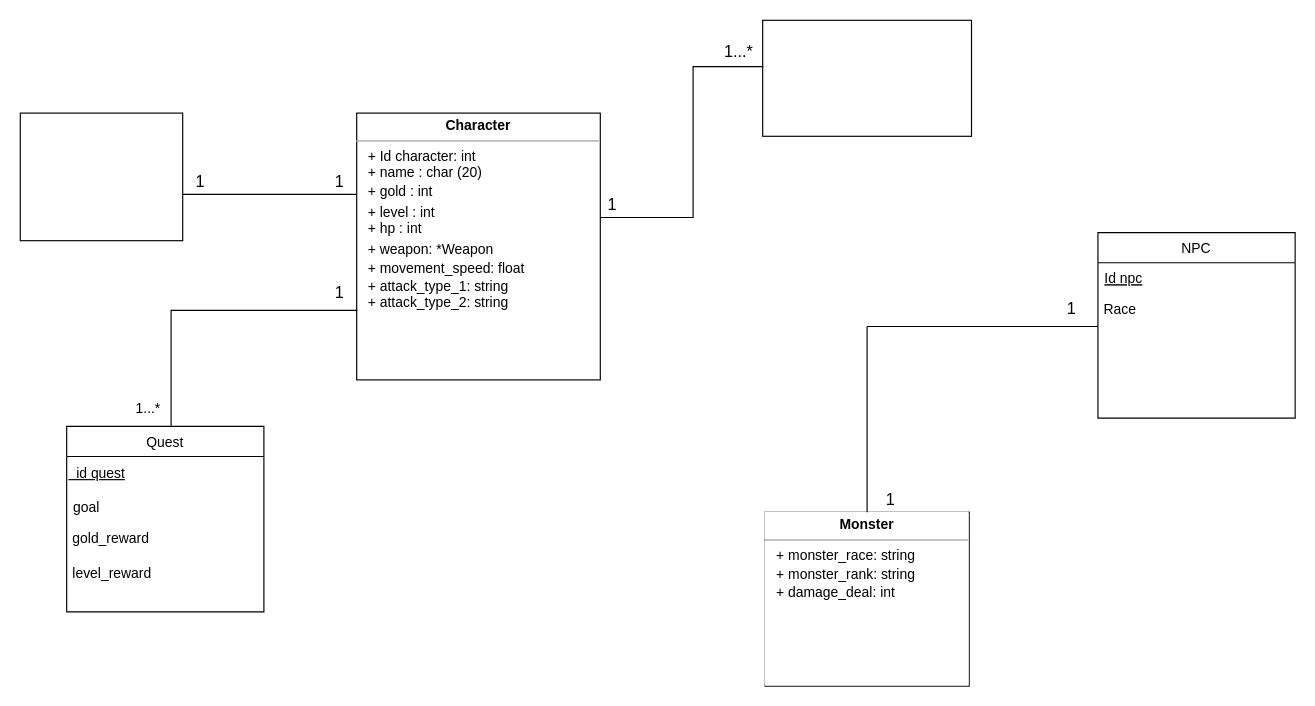
Some shapes in this 1315 by 706 pixel diagram are drawn without their labels. The centre of each missing label's shape, as x and y in pixels:
Player + id: int + setting: Setting + save(): pixel 101 176
Weapon + class_of_weapon: string + range_of_attack: int + attack_speed: int: pixel 866 77
